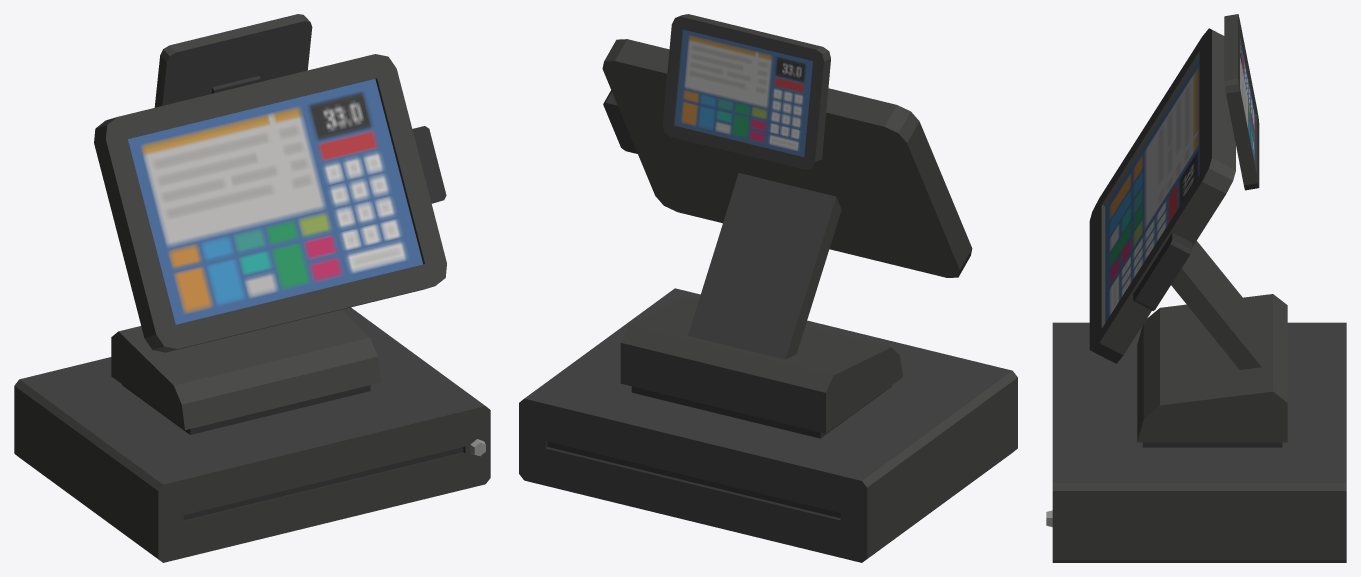
File: SM_Props_Interior_Shop_CashRegister_01.fbx
3 renders of one model, left to right at view 1: azimuth 30°, elevation 25°; view 2: azimuth 150°, elevation 25°; view 3: azimuth 270°, elevation 25°, orthographic. The views are drawn at different scales.
Visible parts, largest first — view 1: SM_Props_Interior_Shop_CashRegister_01; view 2: SM_Props_Interior_Shop_CashRegister_01; view 3: SM_Props_Interior_Shop_CashRegister_01.
Boxes of the visible parts, bbox=[...] form: SM_Props_Interior_Shop_CashRegister_01: bbox=[14, 14, 490, 562]; SM_Props_Interior_Shop_CashRegister_01: bbox=[519, 14, 1017, 562]; SM_Props_Interior_Shop_CashRegister_01: bbox=[1046, 14, 1346, 562].
Bounding box in the file's own units: 40 × 49.16 × 30.65.
